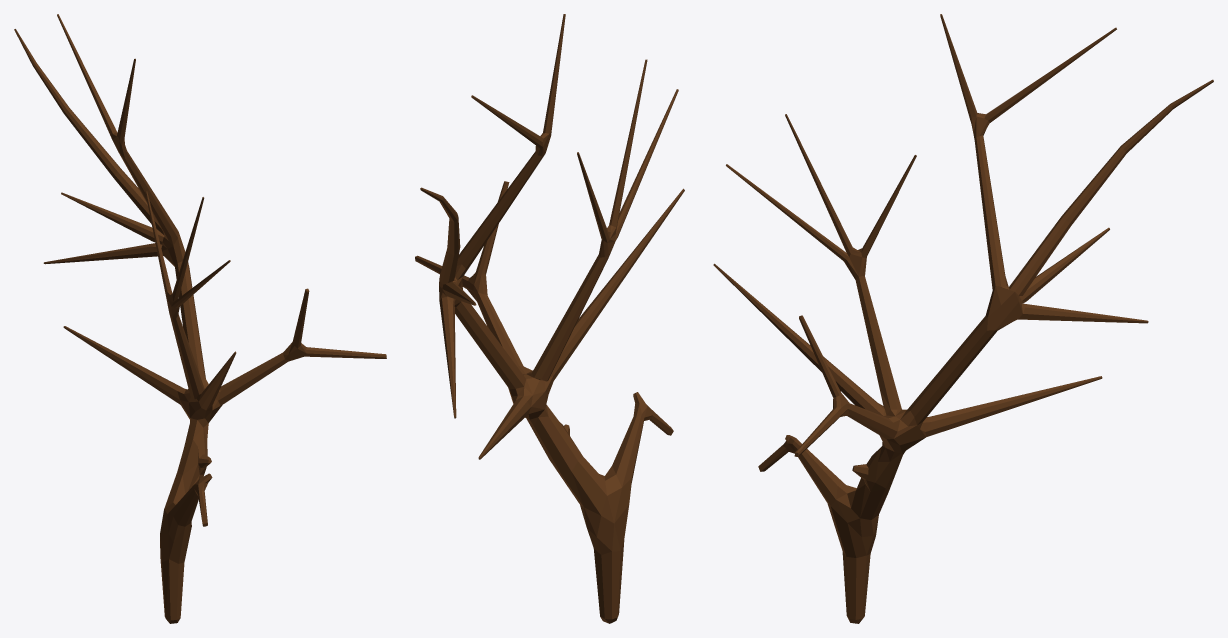
Rendered from tree10.fbx.
The picture shows the model from 3 angles, left to right: view 1: azimuth 30°, elevation 25°; view 2: azimuth 150°, elevation 25°; view 3: azimuth 270°, elevation 25°; orthographic projection. The views are drawn at different scales.
Visible parts, largest first — view 1: Plane.062; view 2: Plane.062; view 3: Plane.062.
Part boxes in pixels (box(x1,y1,x2,y2)): Plane.062: box(14, 14, 386, 623); Plane.062: box(415, 14, 684, 623); Plane.062: box(713, 14, 1213, 623).
Bounding box in the file's own units: 0.7407 × 1.9 × 1.42.
